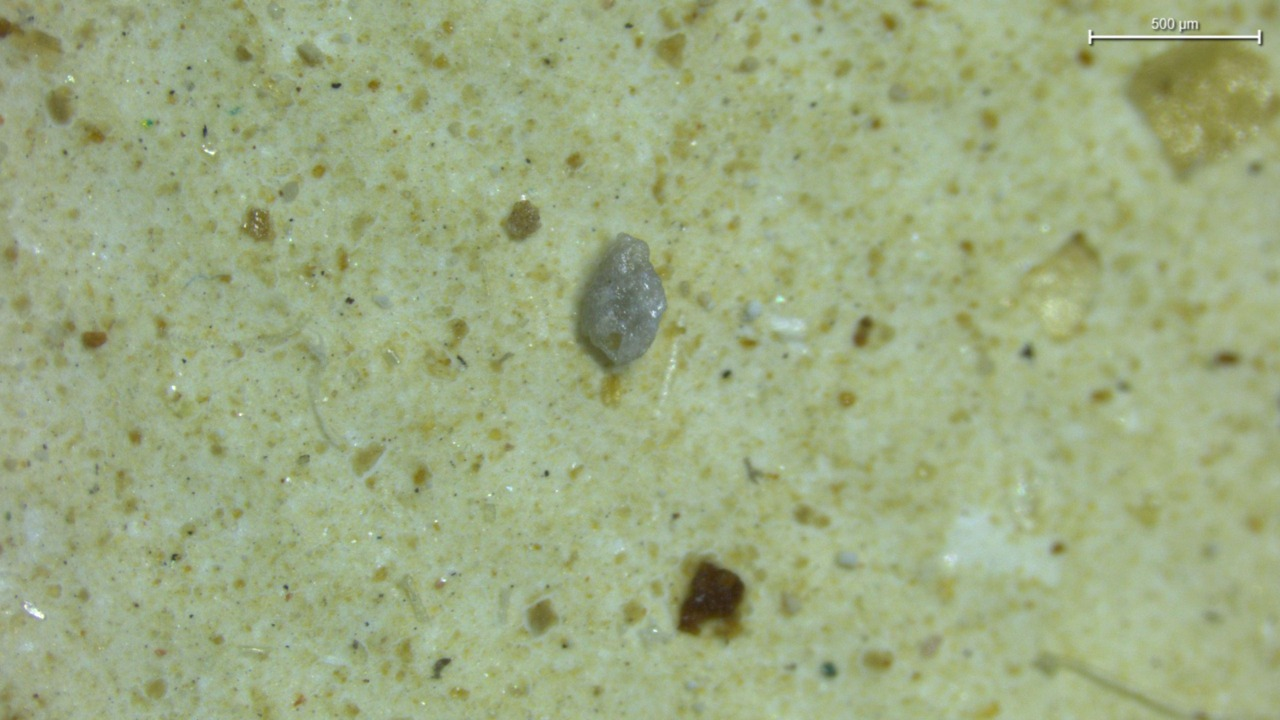microplastic_fragment: (578, 233, 666, 366)
